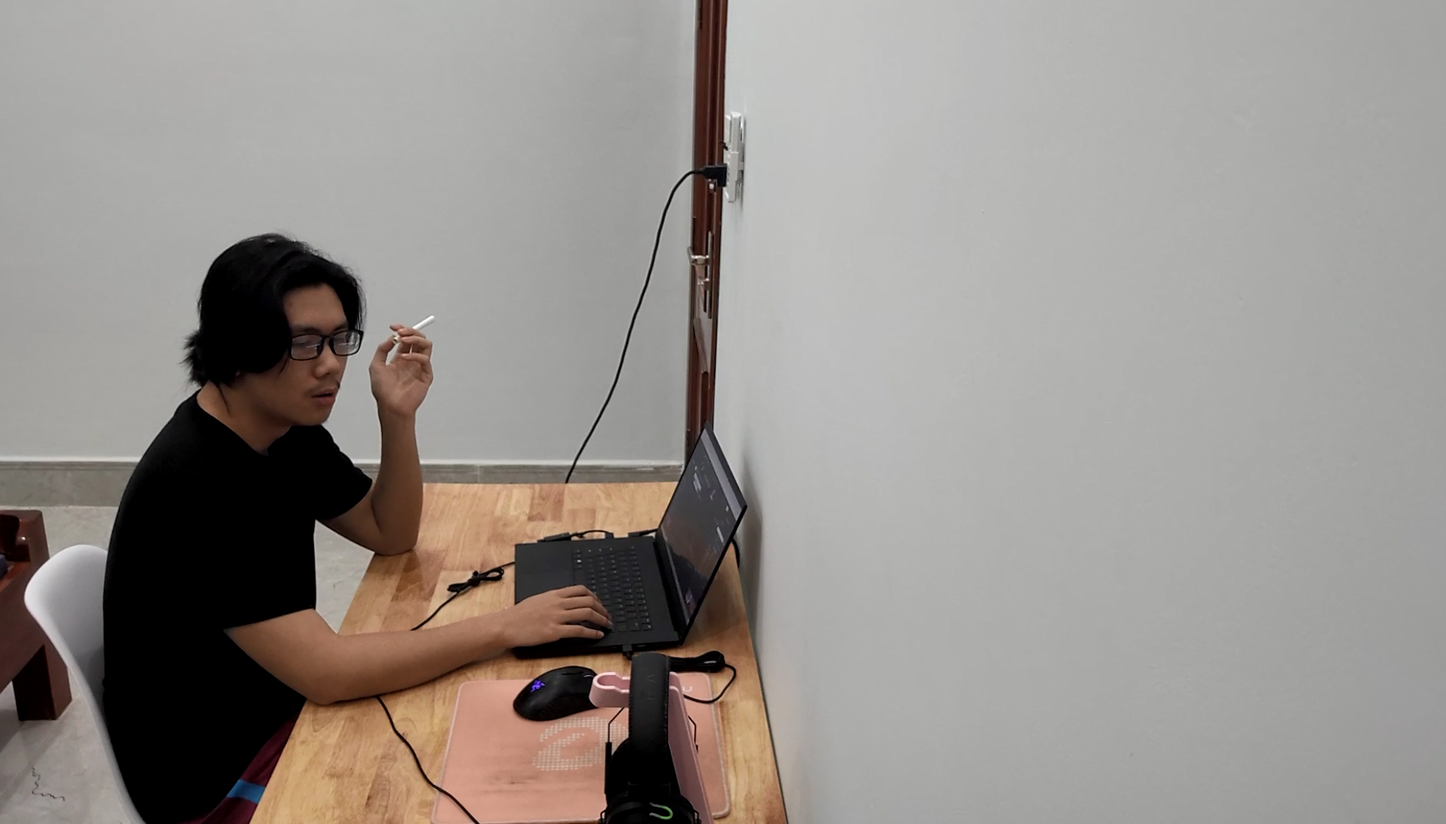cigarette: (392, 312, 438, 349)
person: (92, 216, 441, 824)
